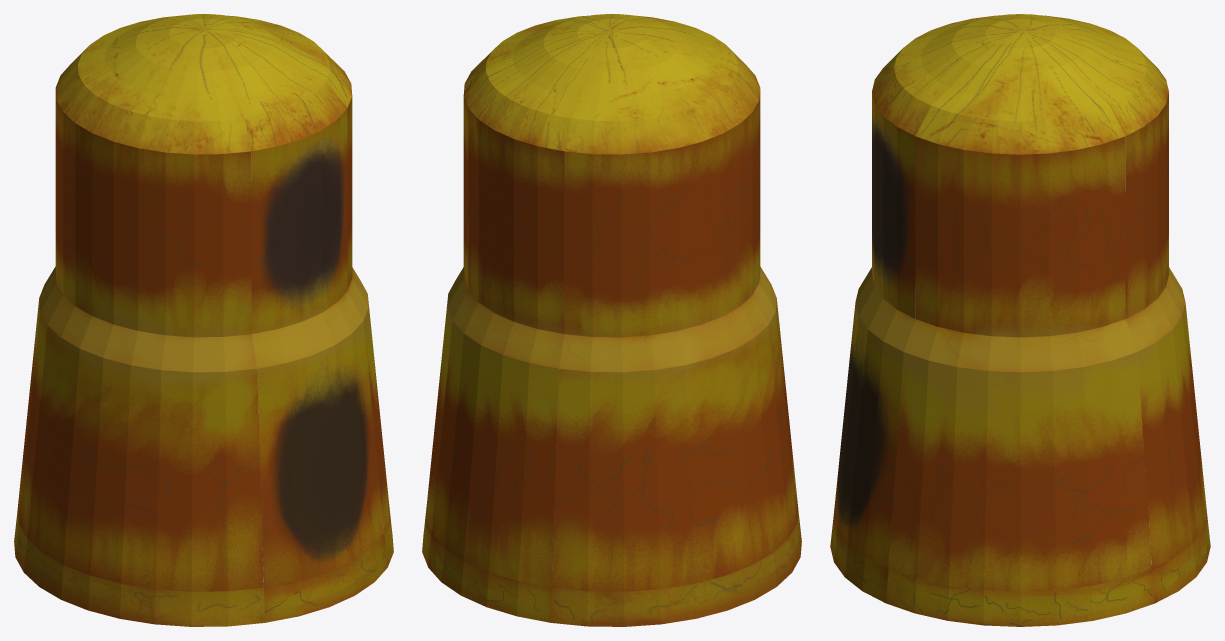
Rendered from AltarMontania.fbx.
3 views of the same model, side by side, from view 1: azimuth 30°, elevation 25°; view 2: azimuth 150°, elevation 25°; view 3: azimuth 270°, elevation 25° (orthographic).
Visible parts, largest first — view 1: Sphere; view 2: Sphere; view 3: Sphere.
Part boxes in pixels (bbox=[...]): Sphere: bbox=[14, 14, 393, 626]; Sphere: bbox=[422, 14, 801, 626]; Sphere: bbox=[830, 14, 1210, 626].
Size of the model in its own units: 213 by 319 by 213.
Materials: 1 (1 with a texture image).
